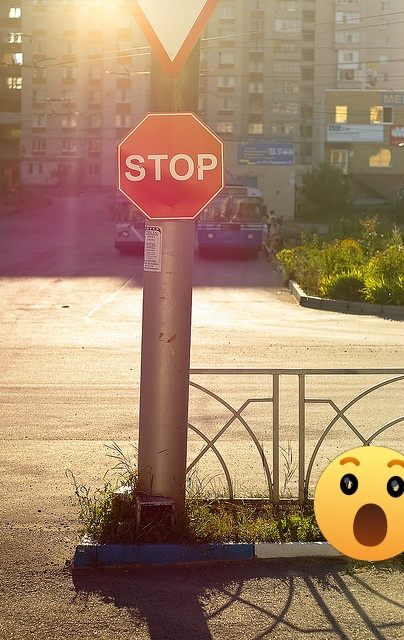wow: (314, 446, 404, 561)
